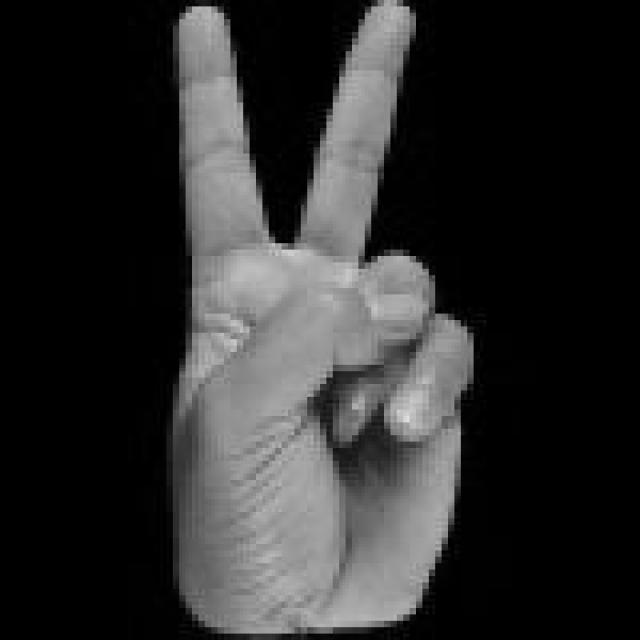V: (157, 0, 486, 640)
